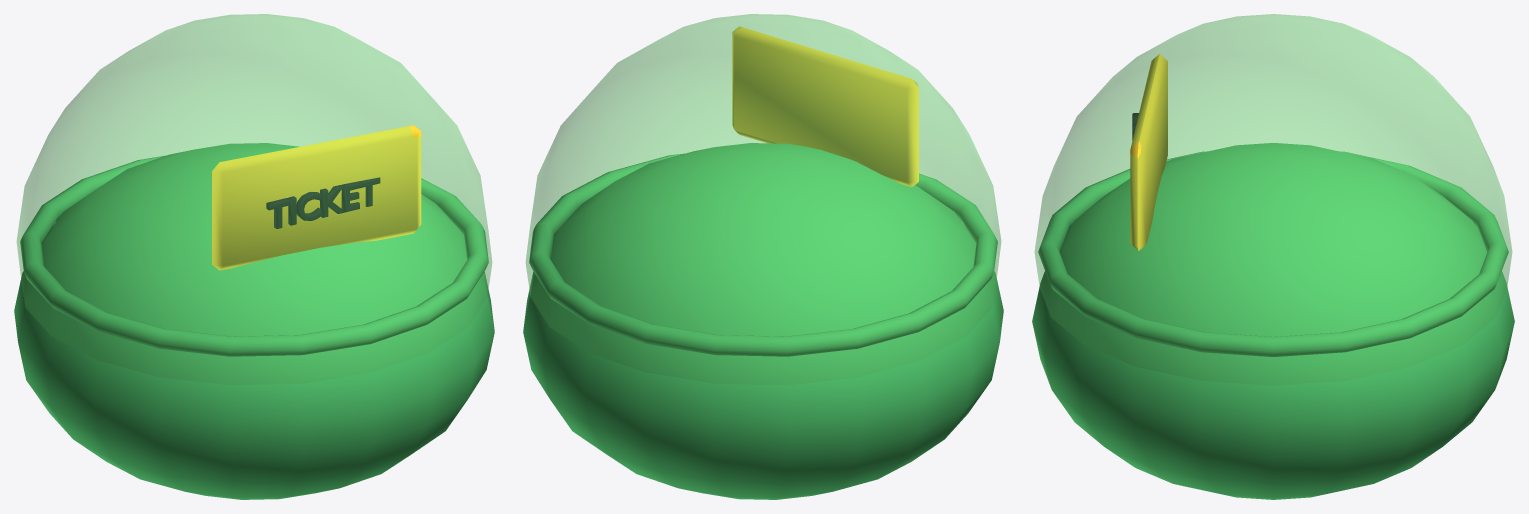
The model's file is SM_TicketCapsule.fbx.
3 renders of one model, left to right at view 1: azimuth 30°, elevation 25°; view 2: azimuth 150°, elevation 25°; view 3: azimuth 270°, elevation 25°, orthographic.
Parts seen in each view (by area): view 1: SM_TicketCapsule; view 2: SM_TicketCapsule; view 3: SM_TicketCapsule.
Part boxes in pixels (left/top/right/bottom): SM_TicketCapsule: left=14, top=14, right=494, bottom=499; SM_TicketCapsule: left=523, top=14, right=1003, bottom=499; SM_TicketCapsule: left=1032, top=14, right=1514, bottom=499.
Size of the model in its own units: 2.02 by 2.02 by 2.
